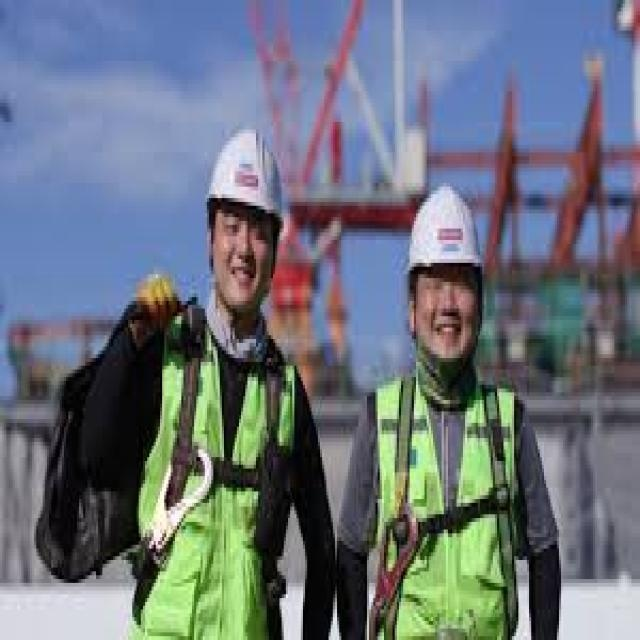Arnes_seguridad: (161, 315, 302, 640), (371, 358, 524, 640)
